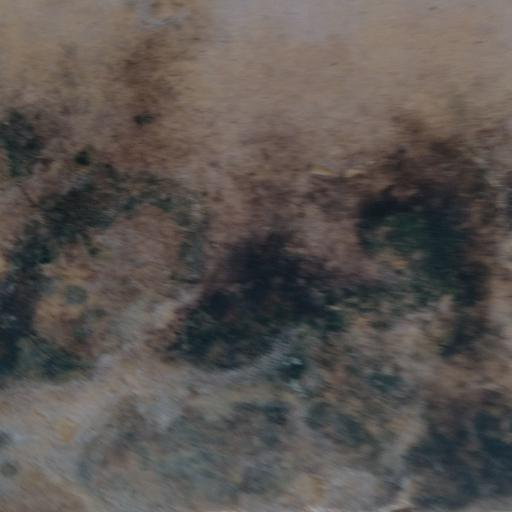algae: (0, 84, 512, 503)
